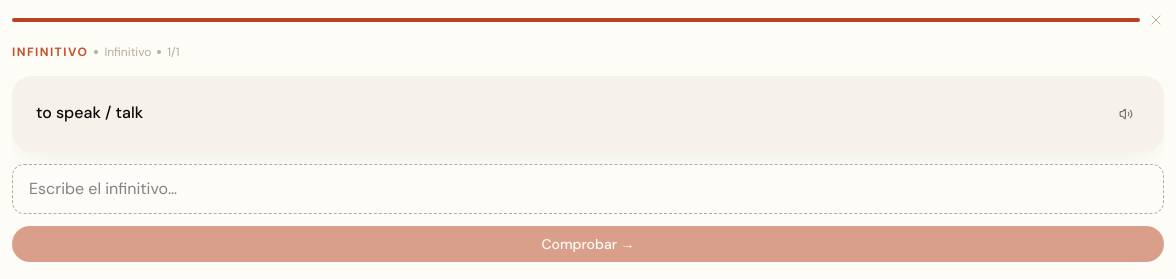
Test: VerbSession › grades infinitive drill correctly and shows inline success
Type "hablar" into the field with placeholder "Escribe el infinitivo…".
click(588, 189); type("hablar")  # box 29,177 -> 1147,201
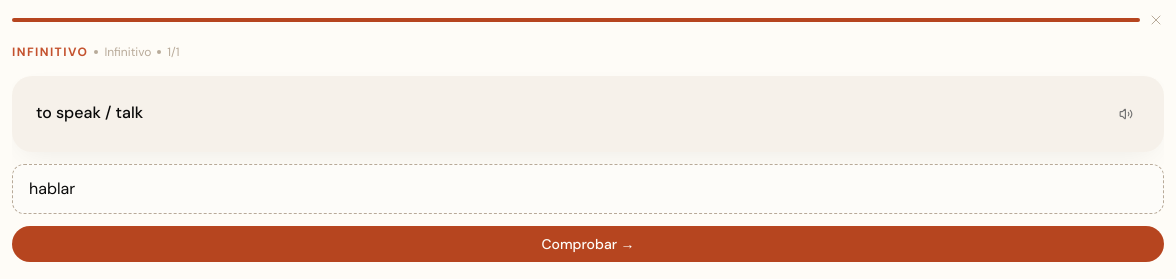
Click the button "Comprobar →".
click(588, 244)  # box 12,226 -> 1164,262
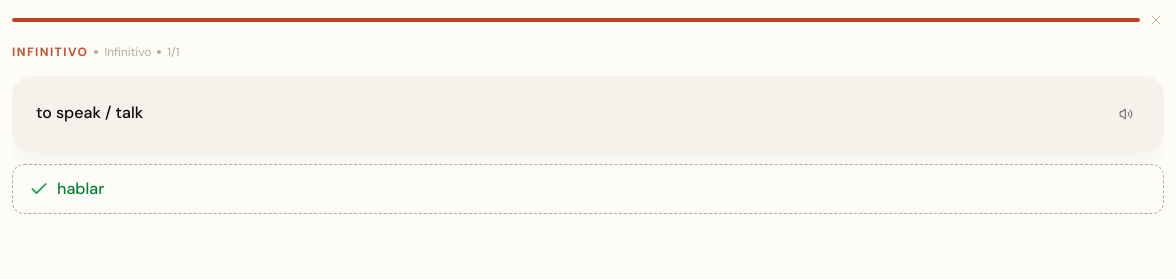
Expected: the field with placeholder "Escribe el infinitivo…" is not shown
Expected: the text "hablar" is shown, 57,177 -> 104,201
